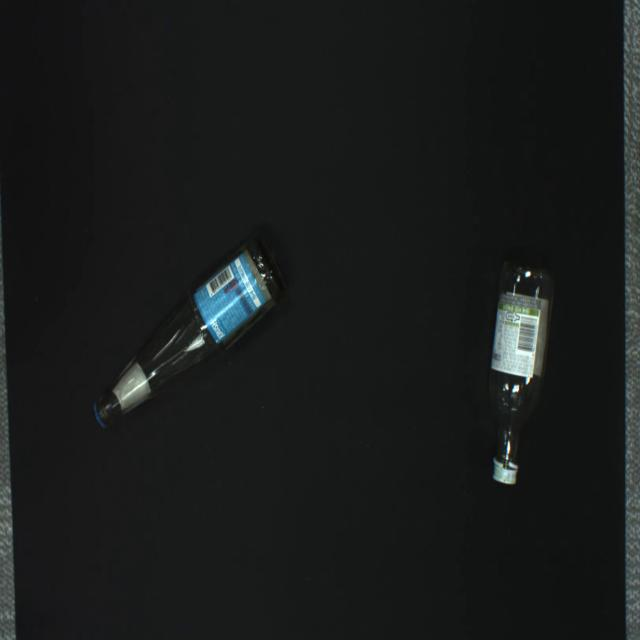beer-bottle: (94, 239, 285, 428)
soju-bottle: (488, 262, 554, 484)
